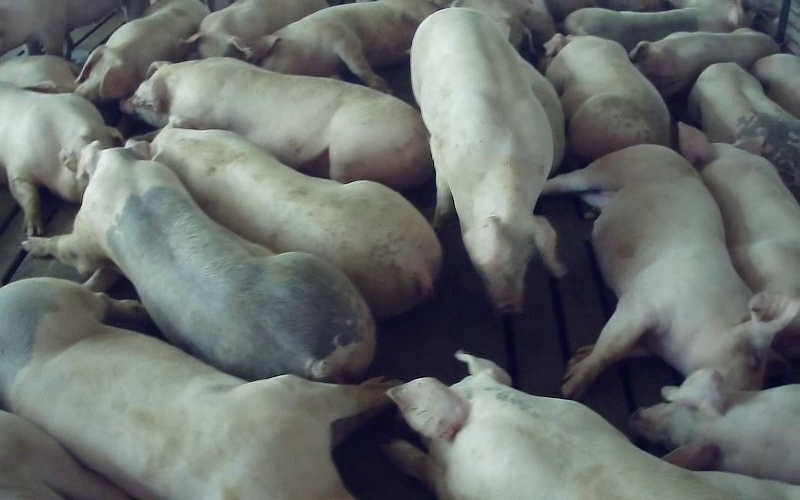pig: (545, 145, 799, 395), (385, 352, 799, 499), (152, 127, 441, 316), (411, 7, 563, 313), (122, 57, 431, 189), (679, 123, 799, 296), (631, 369, 799, 483), (540, 34, 669, 161), (688, 63, 799, 199), (629, 28, 779, 99), (563, 4, 743, 50), (189, 0, 327, 57)
